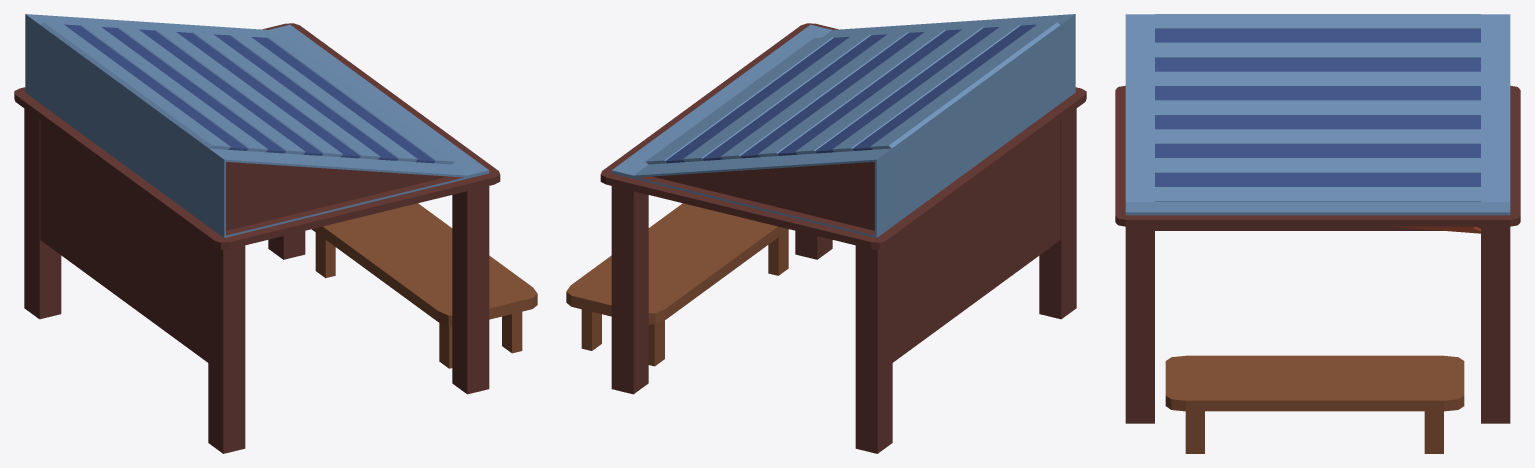
Rendered from herreria.fbx.
3 renders of one model, left to right at view 1: azimuth 30°, elevation 25°; view 2: azimuth 150°, elevation 25°; view 3: azimuth 270°, elevation 25°, orthographic. The views are drawn at different scales.
Visible parts, largest first — view 1: caseta, mostrador; view 2: caseta, mostrador; view 3: caseta, mostrador.
Part boxes in pixels (x1,y1,x2,y2): caseta: [14, 14, 500, 453]; mostrador: [312, 203, 537, 368]; caseta: [600, 14, 1086, 453]; mostrador: [566, 203, 788, 366]; caseta: [1115, 14, 1520, 423]; mostrador: [1165, 355, 1464, 453].
Size of the model in its own units: 621 by 503 by 645.
